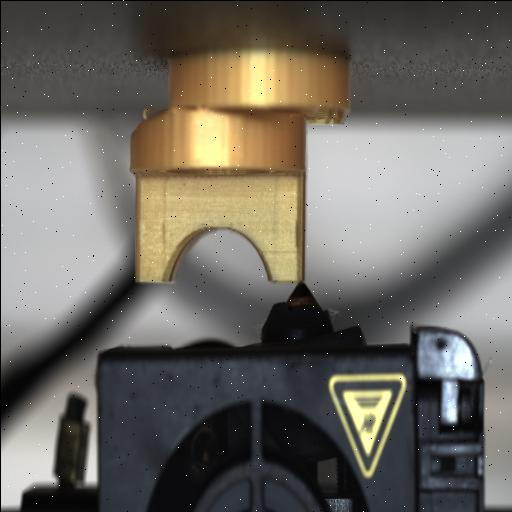layer_shift: (132, 98, 354, 138)
